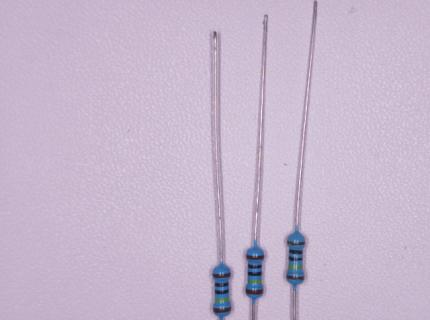Black band: (289, 255, 302, 262), (215, 290, 229, 295), (215, 282, 229, 287), (248, 271, 262, 276), (289, 250, 303, 255), (248, 264, 261, 269)
Brown band: (213, 307, 231, 313), (246, 289, 263, 295), (287, 241, 306, 246), (213, 273, 231, 278), (287, 275, 304, 280), (246, 255, 264, 259)
Yellow band: (215, 297, 230, 302), (248, 279, 262, 284), (289, 265, 303, 269)
